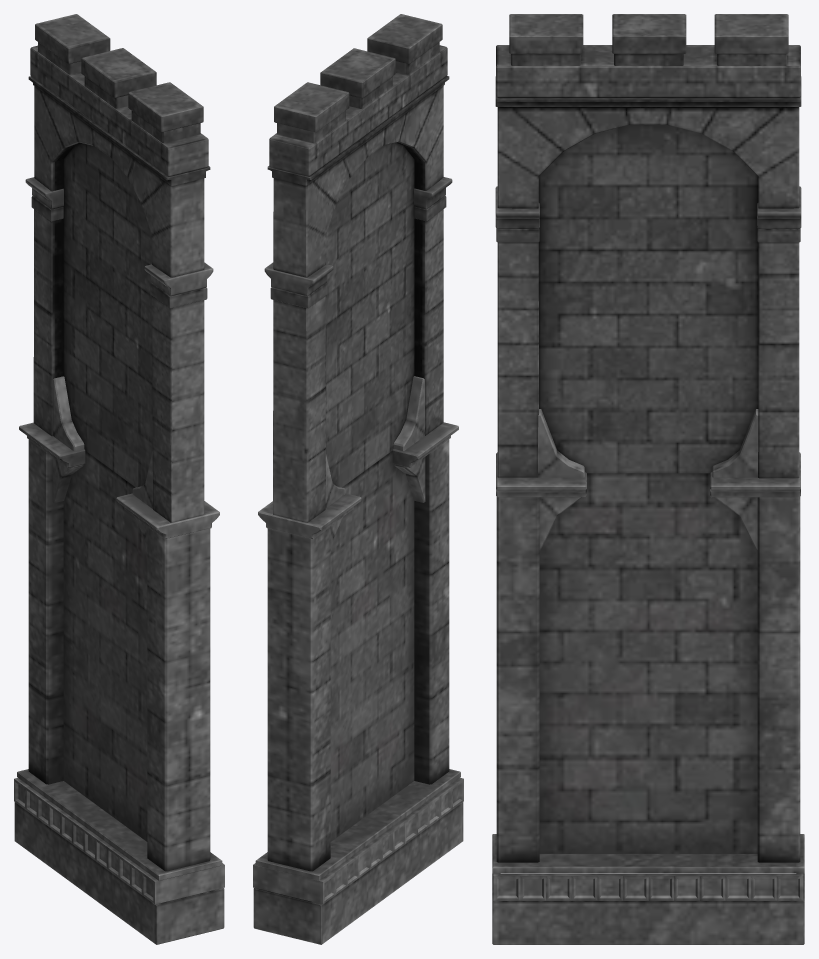
Rendered from SM_DefenseWall_Stone_a0df0e.glb.
3 views of the same model, side by side, from view 1: azimuth 30°, elevation 25°; view 2: azimuth 150°, elevation 25°; view 3: azimuth 270°, elevation 25° (orthographic). The views are drawn at different scales.
Size of the model in its own units: 1.18 by 13.19 by 4.14.
Materials: 2 (2 with a texture image).
